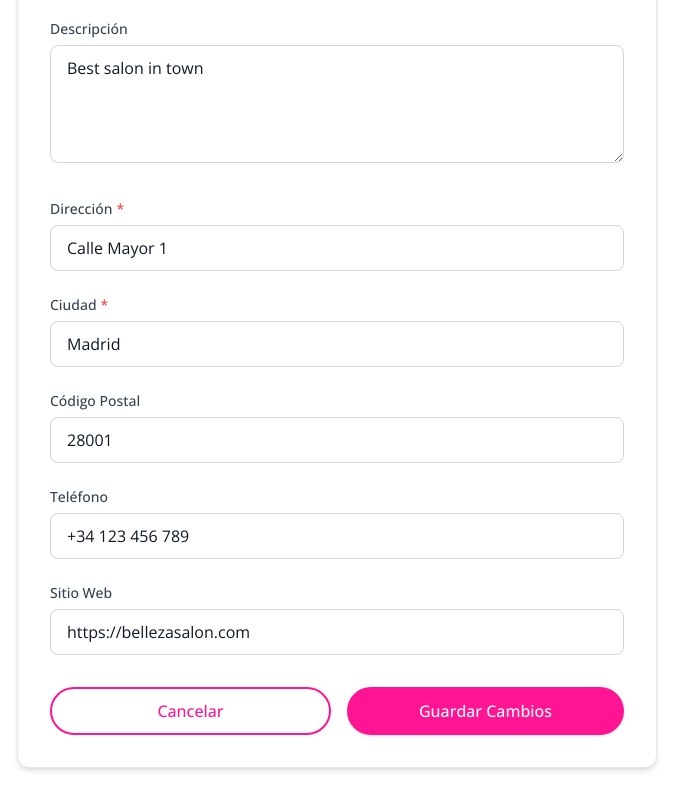
Test: EditSalonProfile Component › should display error message when update fails
(page scrolled)
Click the button "Guardar Cambios" at (486, 711), box [347,687,624,735]
(page scrolled)
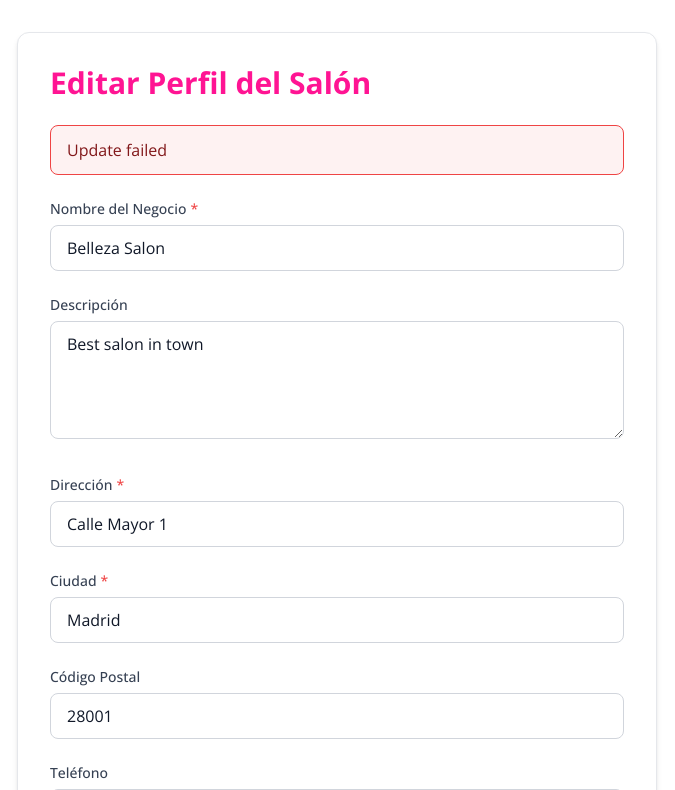
Result: the text "Update failed" is shown at [67,139,167,161]
